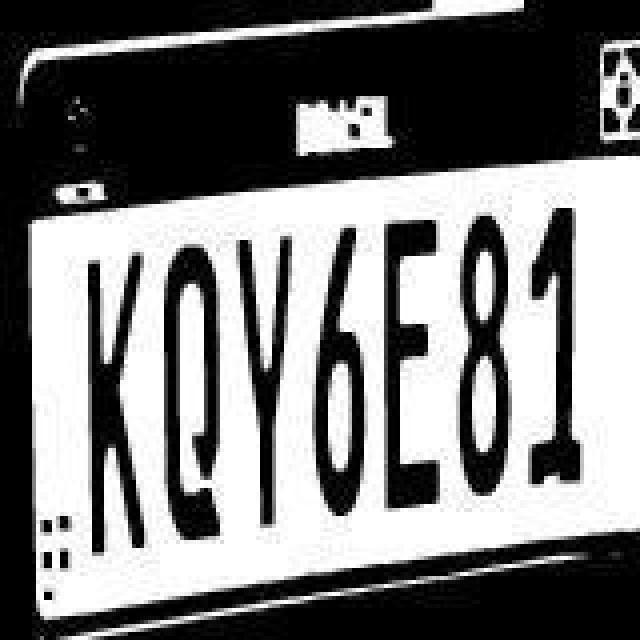1: (524, 206, 604, 490)
6: (314, 216, 374, 536)
8: (452, 210, 524, 518)
E: (376, 218, 456, 534)
K: (82, 244, 158, 556)
Q: (160, 244, 240, 556)
Y: (232, 232, 312, 544)
